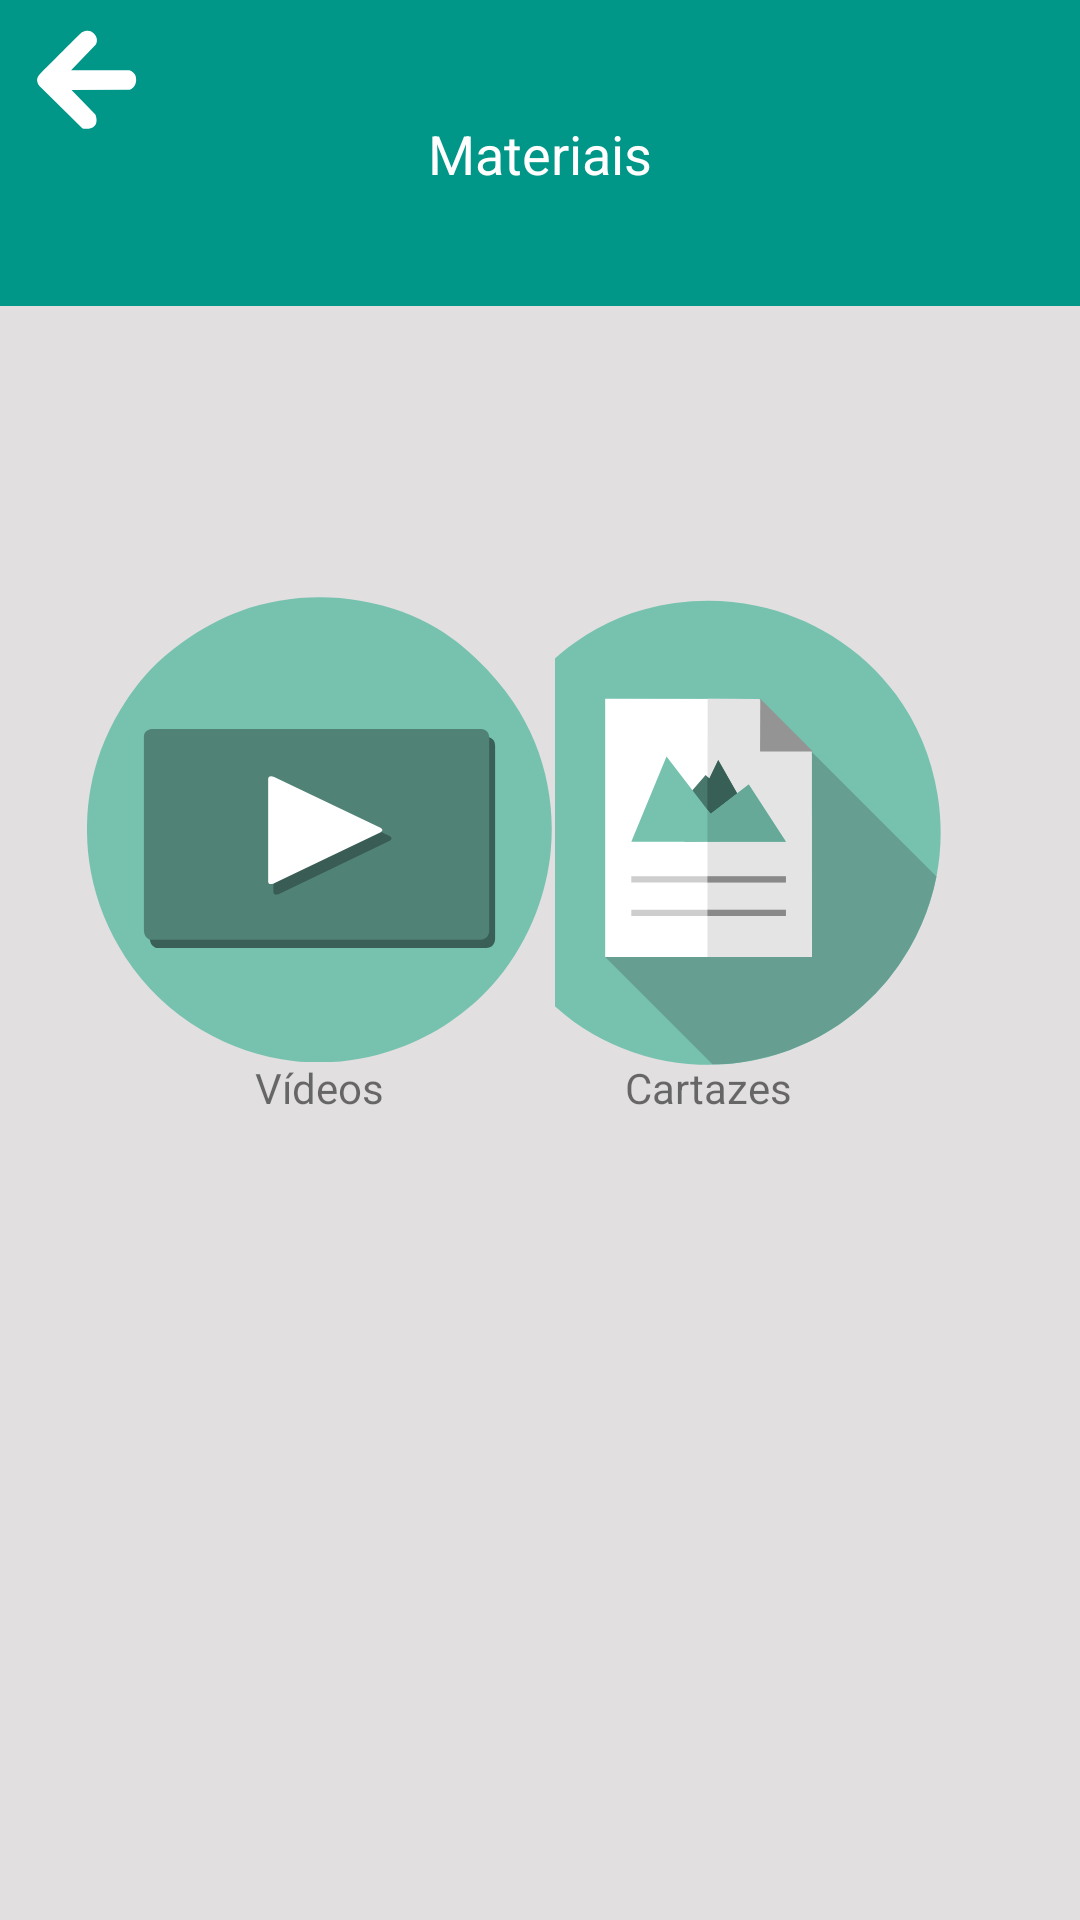

Named icons in this screenshot (1080px×1920px) and their bounding boxes, BBox(x1, y1, x2, y2):
seta: BBox(37, 30, 137, 129)
